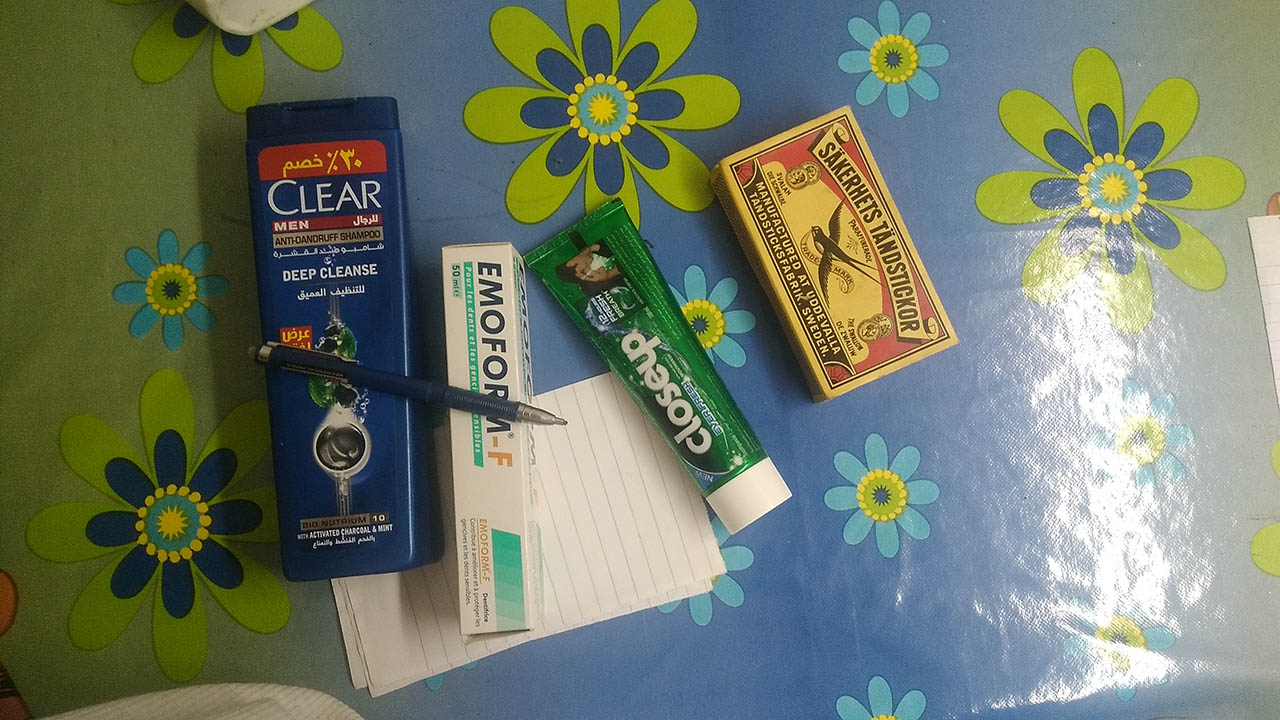Shampoo-Clear 4.7$: (231, 87, 440, 581)
Toothpaste-Closeup 3.04$: (518, 201, 795, 548)
Toothpaste-F 1.5$: (431, 233, 537, 664)
match-sticks .90$: (710, 104, 990, 397)
